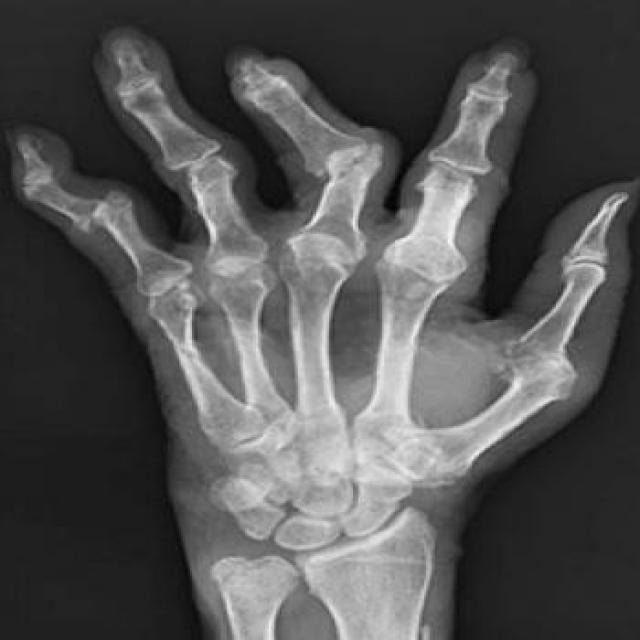Fracture: (304, 131, 389, 187), (76, 183, 132, 238)
